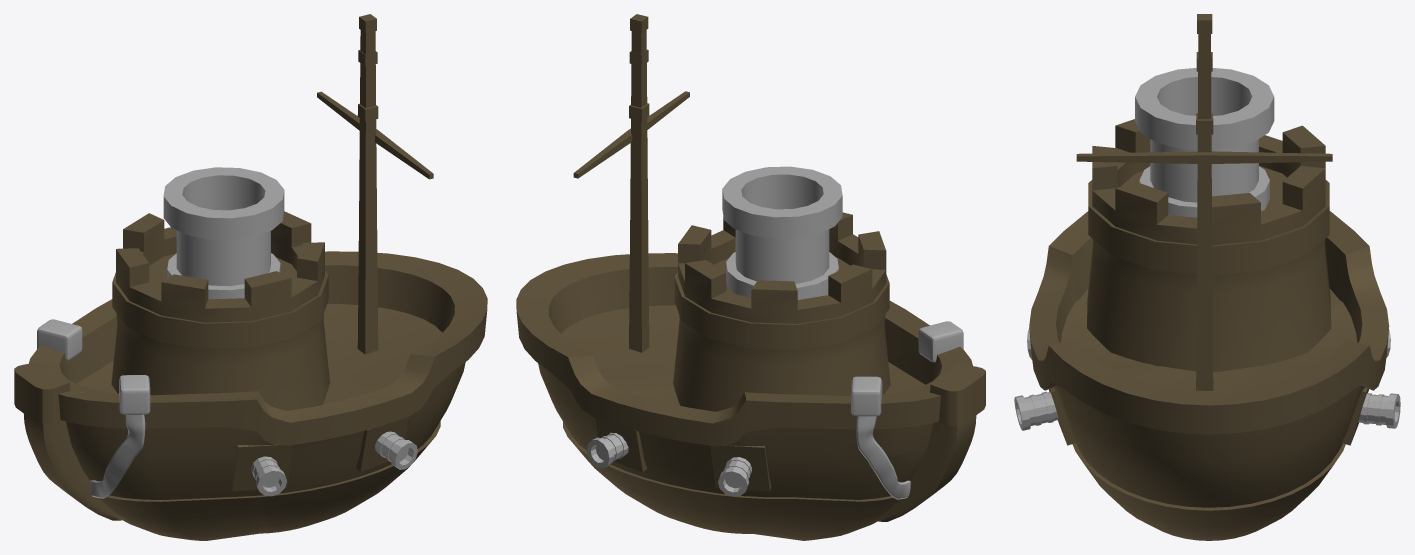
File: EnemyMortar.fbx
The picture shows the model from 3 angles, left to right: view 1: azimuth 30°, elevation 25°; view 2: azimuth 150°, elevation 25°; view 3: azimuth 270°, elevation 25°; orthographic projection. The views are drawn at different scales.
Visible parts, largest first — view 1: polySurface2, polySurface18, polySurface14, polySurface9, polySurface7; view 2: polySurface2, polySurface18, polySurface14, polySurface13, polySurface11; view 3: polySurface2, polySurface18, polySurface9, polySurface13.
Part boxes in pixels (x1=…): polySurface2: x1=14, y1=14, x2=487, y2=540; polySurface18: x1=163, y1=167, x2=284, y2=299; polySurface14: x1=37, y1=319, x2=150, y2=498; polySurface9: x1=375, y1=431, x2=417, y2=469; polySurface7: x1=251, y1=456, x2=286, y2=496; polySurface2: x1=516, y1=14, x2=985, y2=540; polySurface18: x1=722, y1=166, x2=842, y2=299; polySurface14: x1=851, y1=321, x2=963, y2=499; polySurface13: x1=586, y1=432, x2=628, y2=467; polySurface11: x1=718, y1=457, x2=751, y2=496; polySurface2: x1=1029, y1=14, x2=1389, y2=540; polySurface18: x1=1135, y1=68, x2=1274, y2=217; polySurface9: x1=1014, y1=391, x2=1058, y2=430; polySurface13: x1=1358, y1=393, x2=1400, y2=428.
Bounding box in the file's own units: 2.98 × 3.07 × 1.95.
